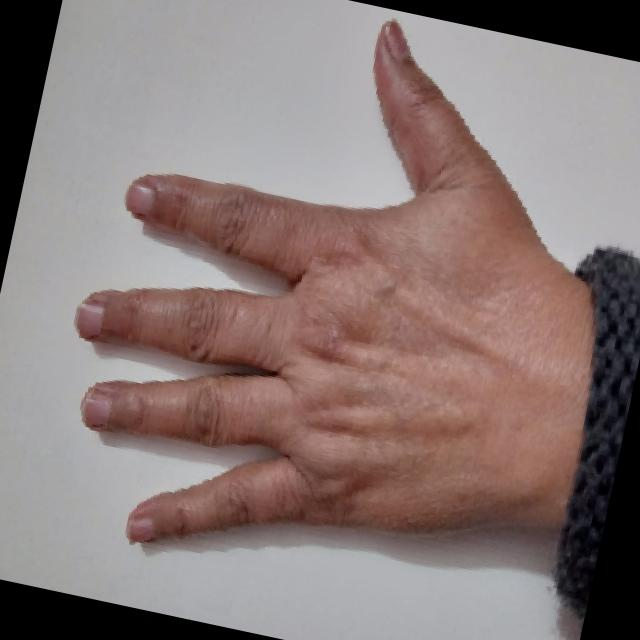Nail: (378, 17, 410, 62), (73, 297, 103, 336), (79, 390, 111, 425), (124, 180, 156, 214), (128, 516, 154, 539)
